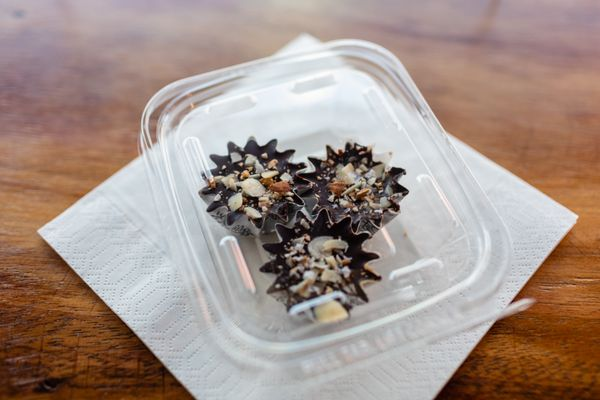sushi: (124, 32, 514, 383)
